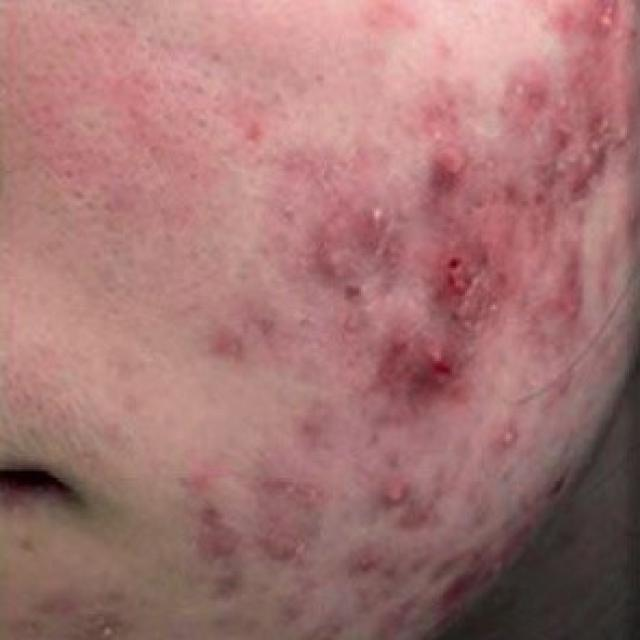acne: (340, 102, 540, 414), (207, 458, 484, 632)
